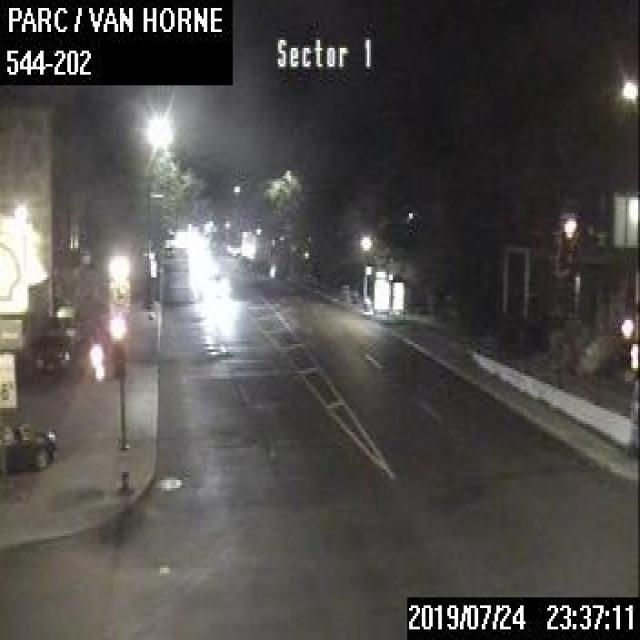vehicle: (2, 420, 56, 472), (34, 331, 73, 376), (54, 303, 81, 350), (205, 272, 228, 294)
